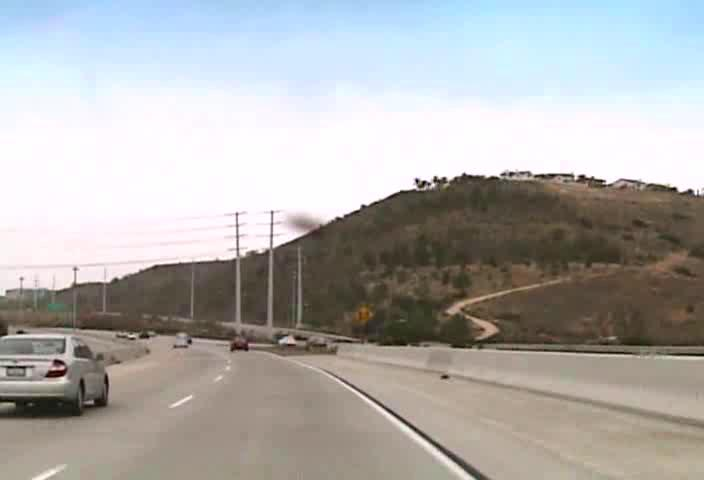addedLane: (350, 303, 375, 325)
